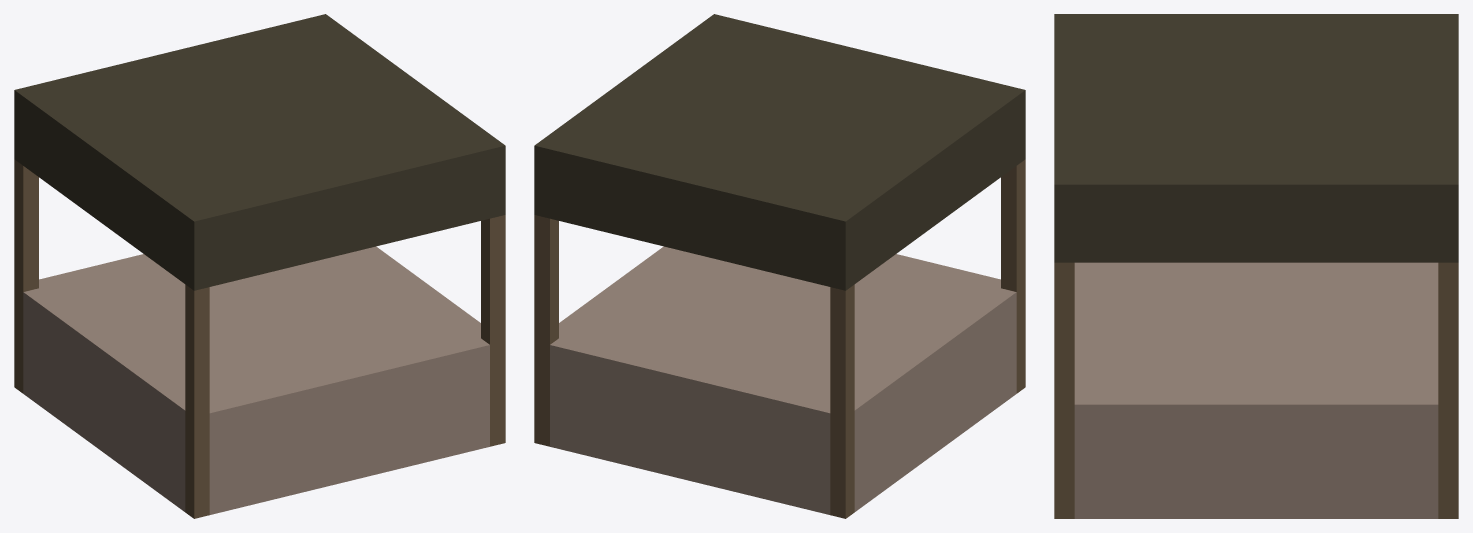
Rendered from Market_Stand.fbx.
The picture shows the model from 3 angles, left to right: view 1: azimuth 30°, elevation 25°; view 2: azimuth 150°, elevation 25°; view 3: azimuth 270°, elevation 25°; orthographic projection. The views are drawn at different scales.
Parts seen in each view (by area): view 1: Market_Stand; view 2: Market_Stand; view 3: Market_Stand.
Boxes of the visible parts, x1,y1,x2,y2 form: Market_Stand: (14, 14, 505, 518); Market_Stand: (534, 14, 1025, 518); Market_Stand: (1054, 14, 1458, 518).
Bounding box in the file's own units: 400 × 365 × 400.
Materials: 1 (1 with a texture image).
